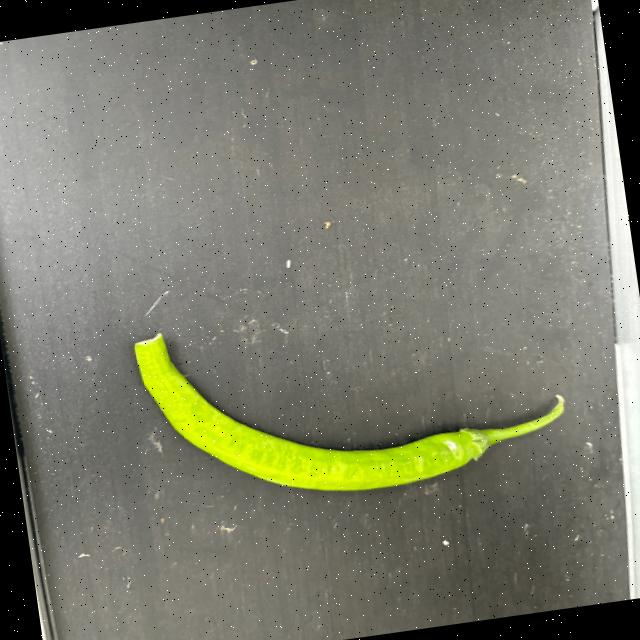chili: (130, 328, 490, 493)
